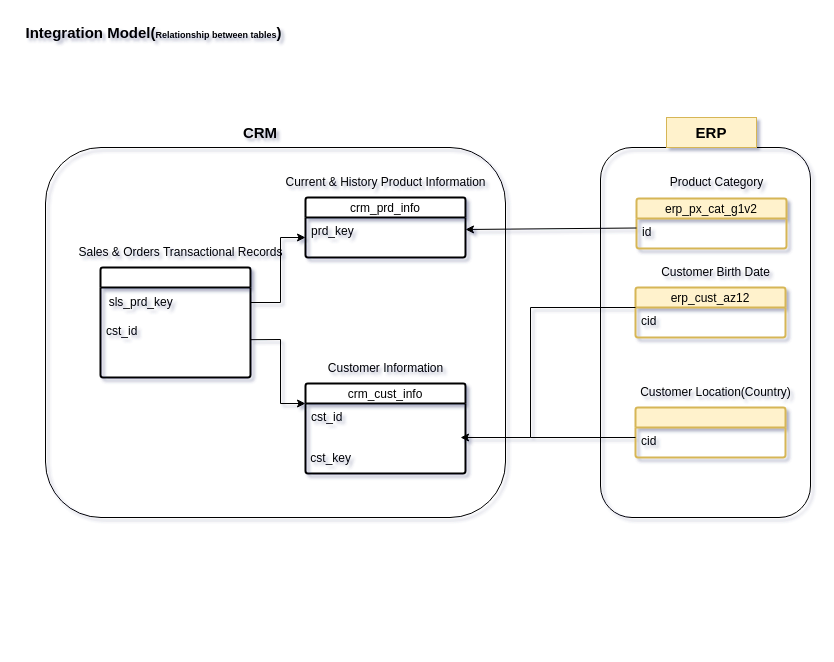
This 834x662 diagram has some shape labels left out. The shapes that lost their labels are listed below. From the top down, each one's box as (x1, y1, x2, y2) in pixels, then its label:
(99, 266, 251, 378): crm_sales_details
(634, 406, 786, 458): erp_loc_a101
